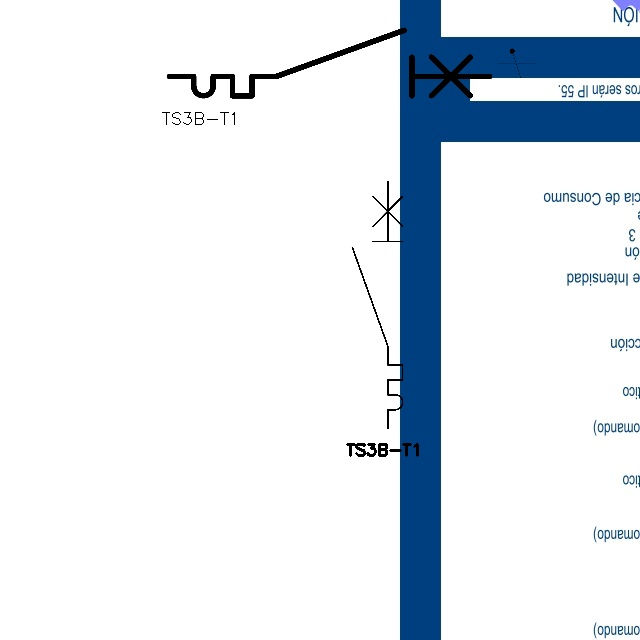interruptor_termomagnetico: (161, 22, 498, 104), (346, 175, 409, 435)
